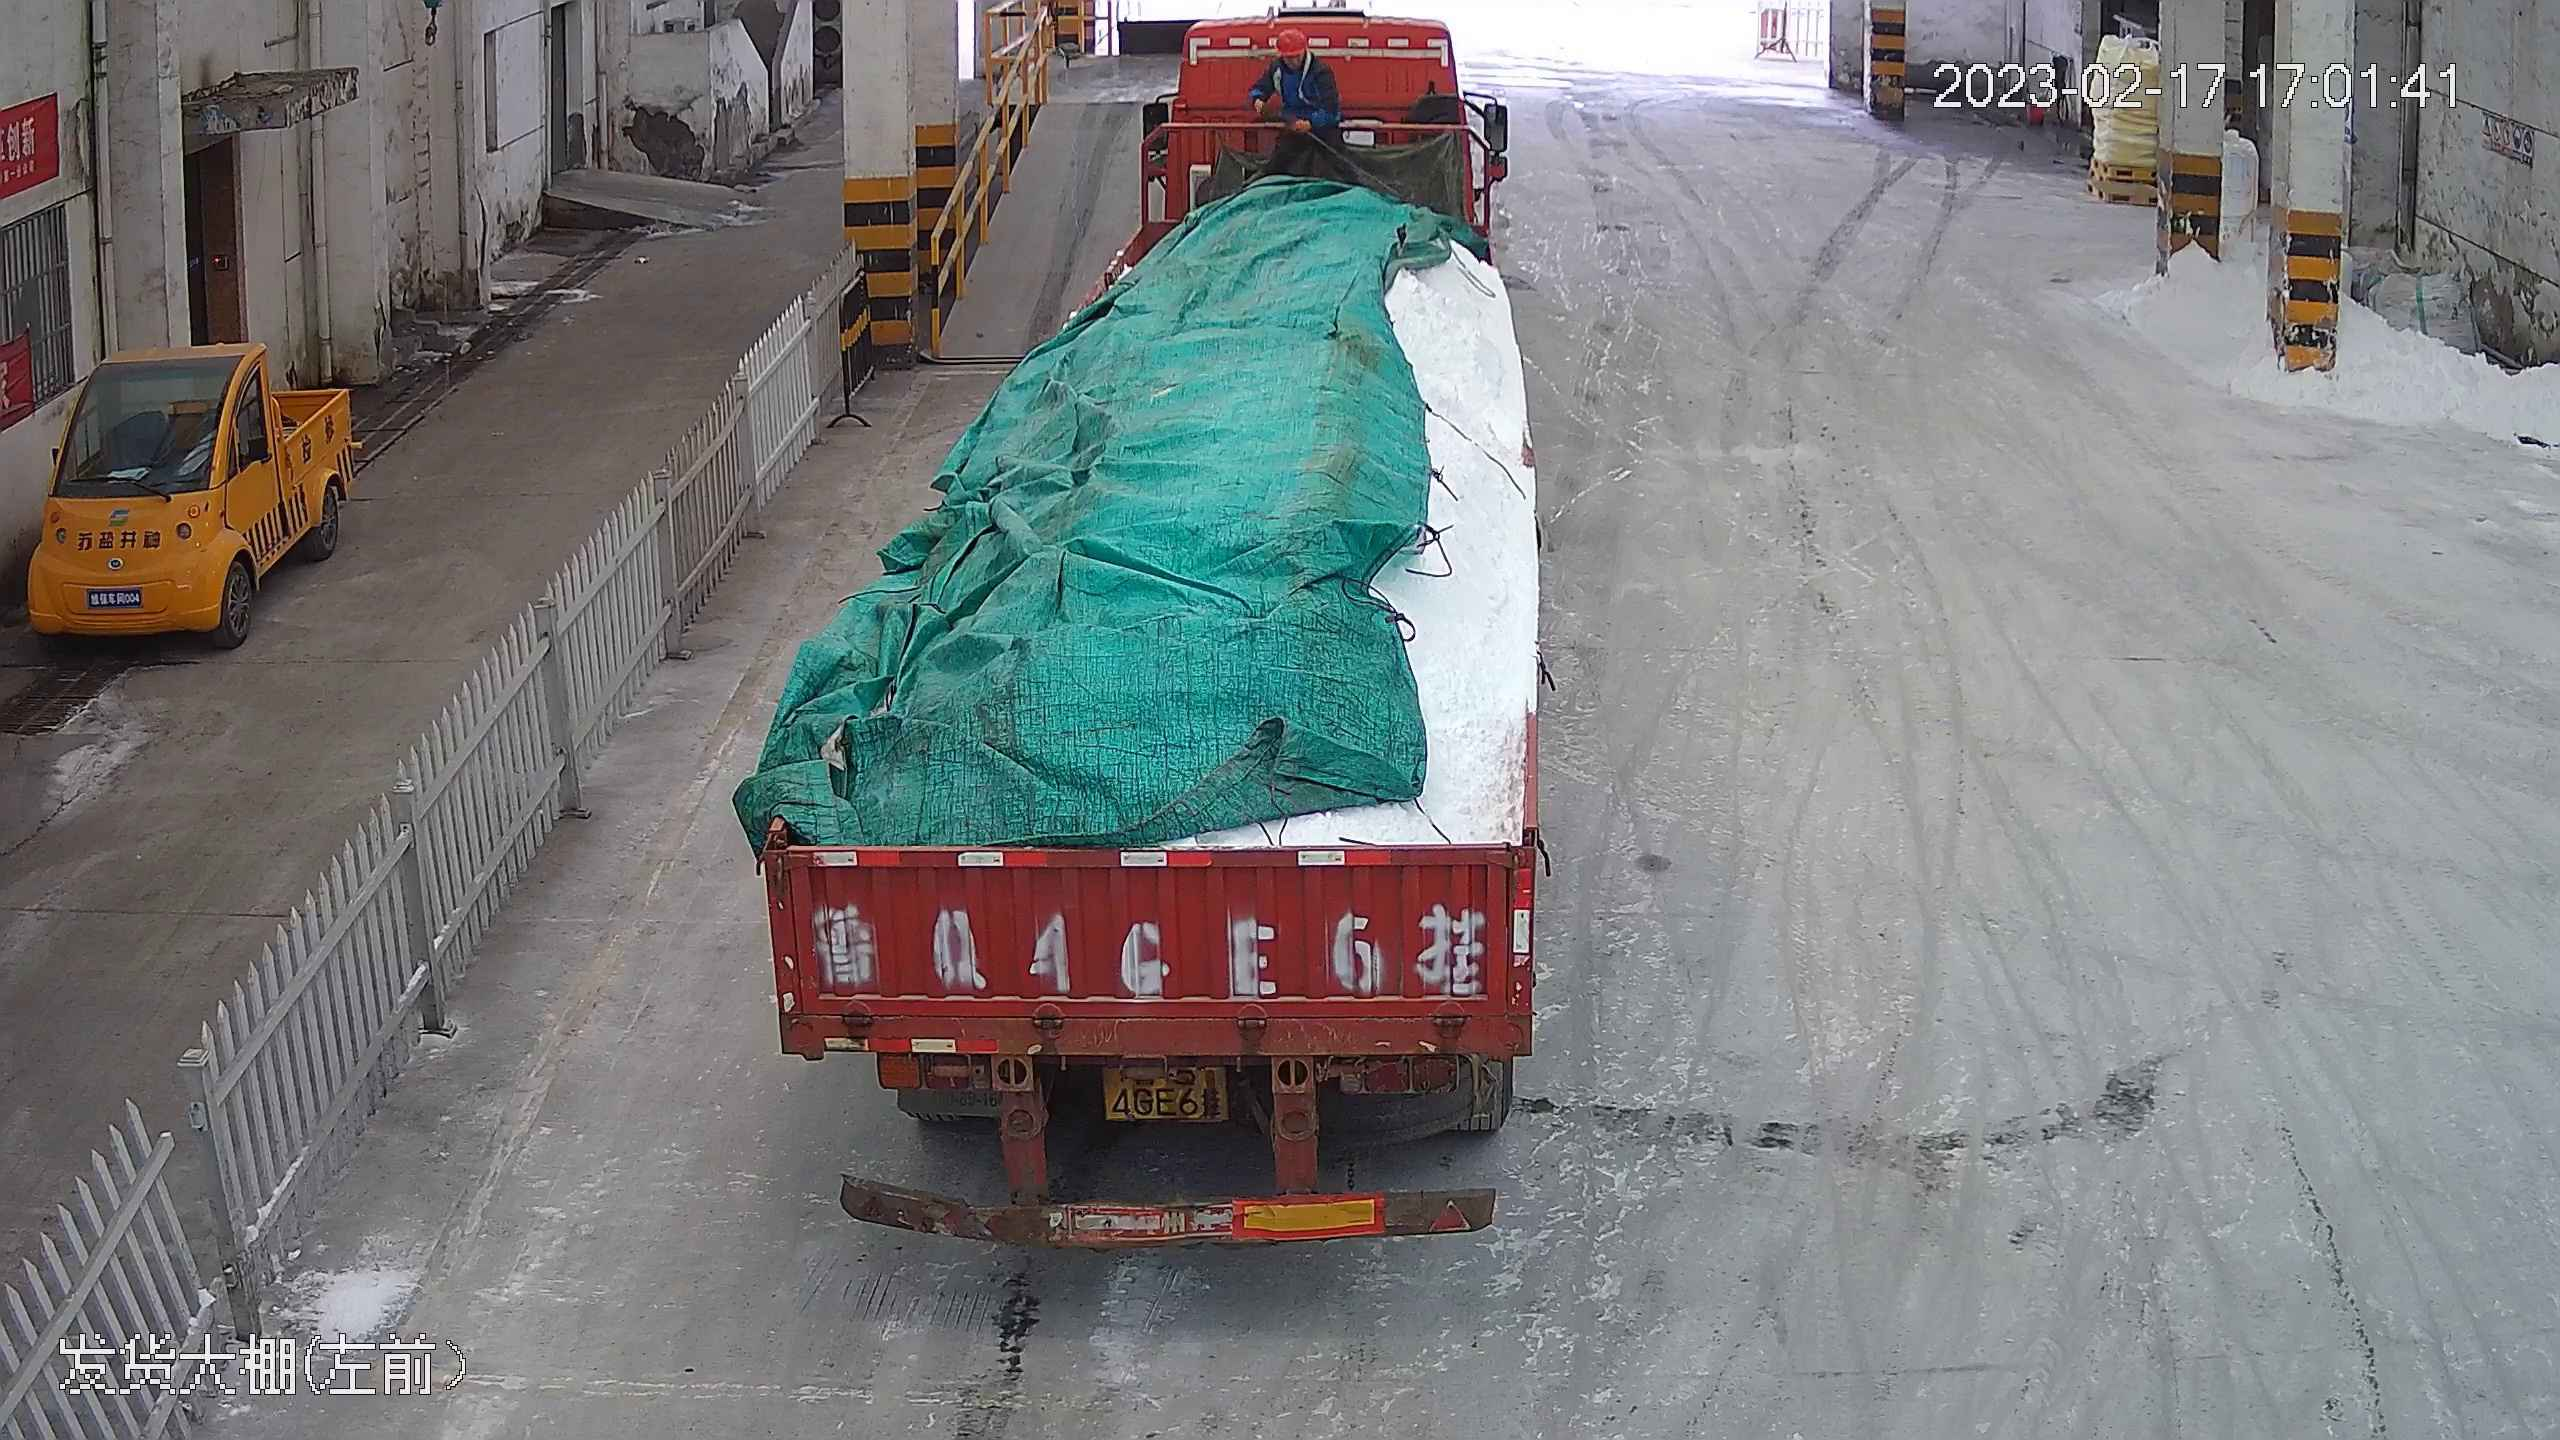belt: (1268, 54, 1325, 110)
head: (1253, 28, 1340, 84)
helmet: (1272, 29, 1309, 57)
people: (1250, 28, 1350, 184)
truck: (753, 1, 1559, 1259)
